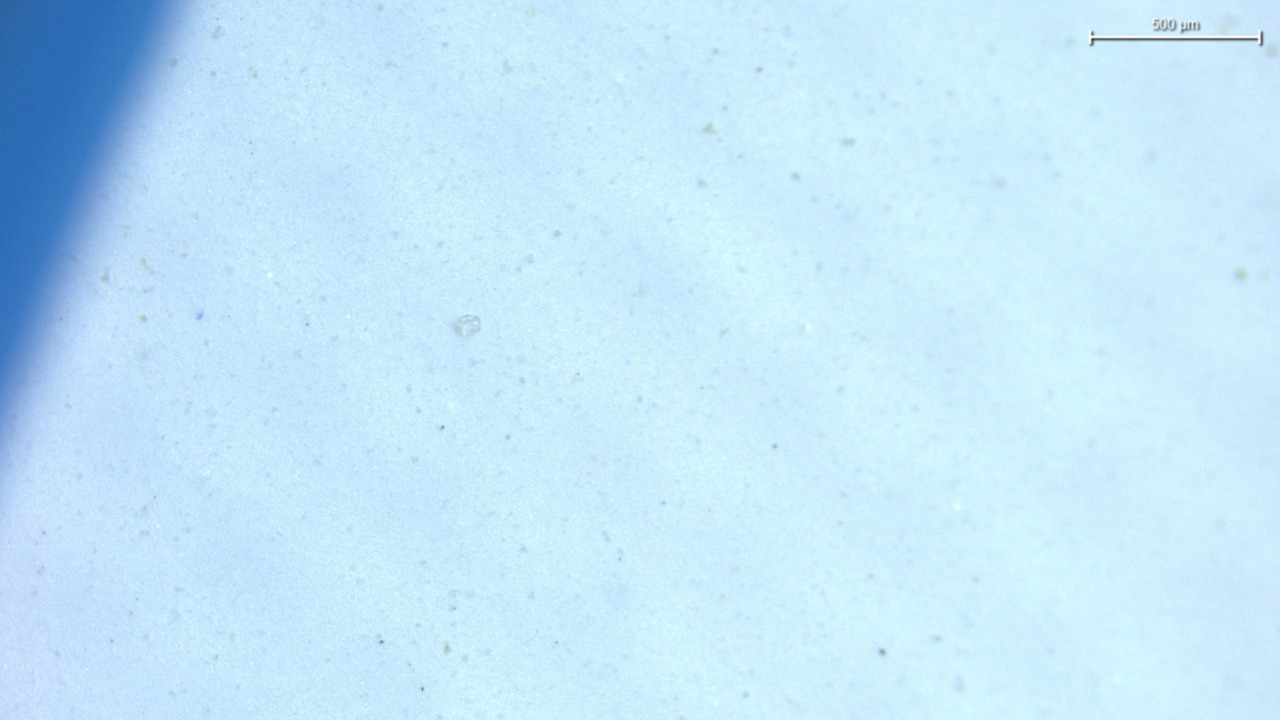microplastic_fragment: (451, 315, 481, 337)
